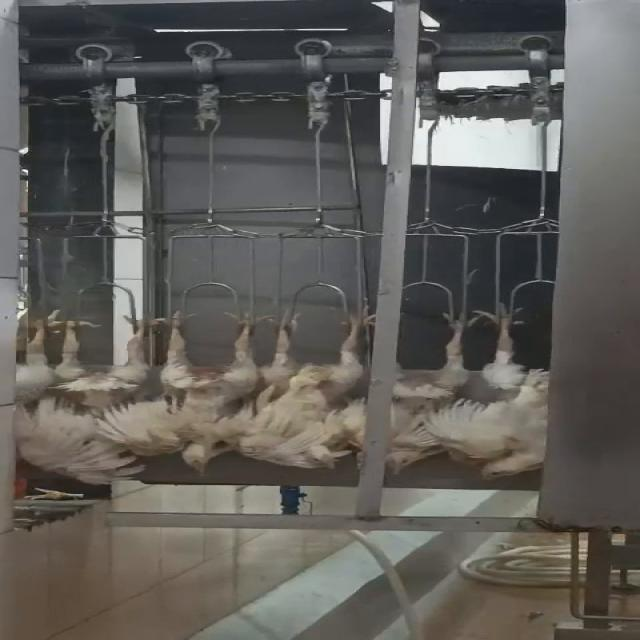chicken: (50, 301, 176, 487), (251, 297, 384, 470), (148, 300, 272, 477), (452, 300, 566, 478), (380, 296, 474, 476), (0, 304, 67, 471)
